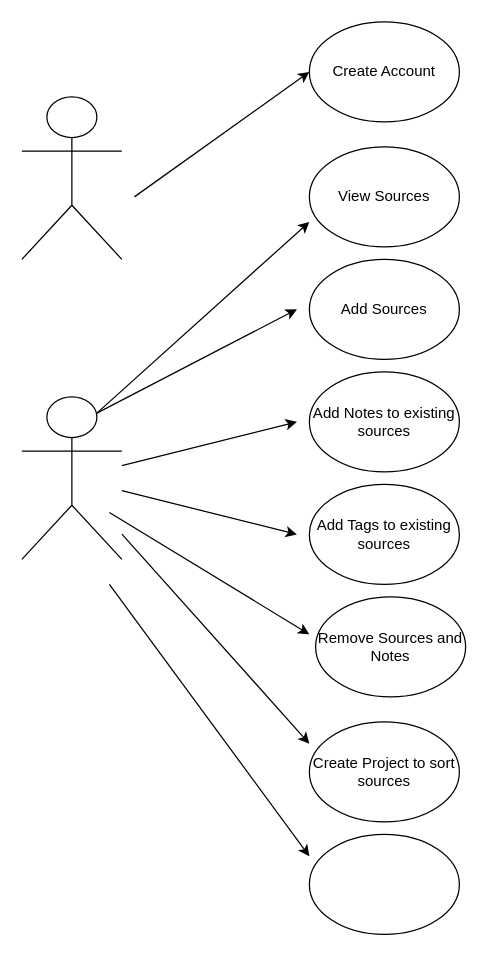
The diagram is 488 pixels wide and 956 high, and some of its shapes have lost their labels. The centre of each missing label's shape, as x and y in pixels:
"Export Project Sources" goes at (x=383, y=883).
"New User" goes at (x=71, y=177).
"User" goes at (x=71, y=477).
